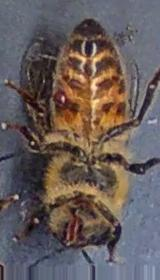varroa_mite: (45, 80, 76, 120)
